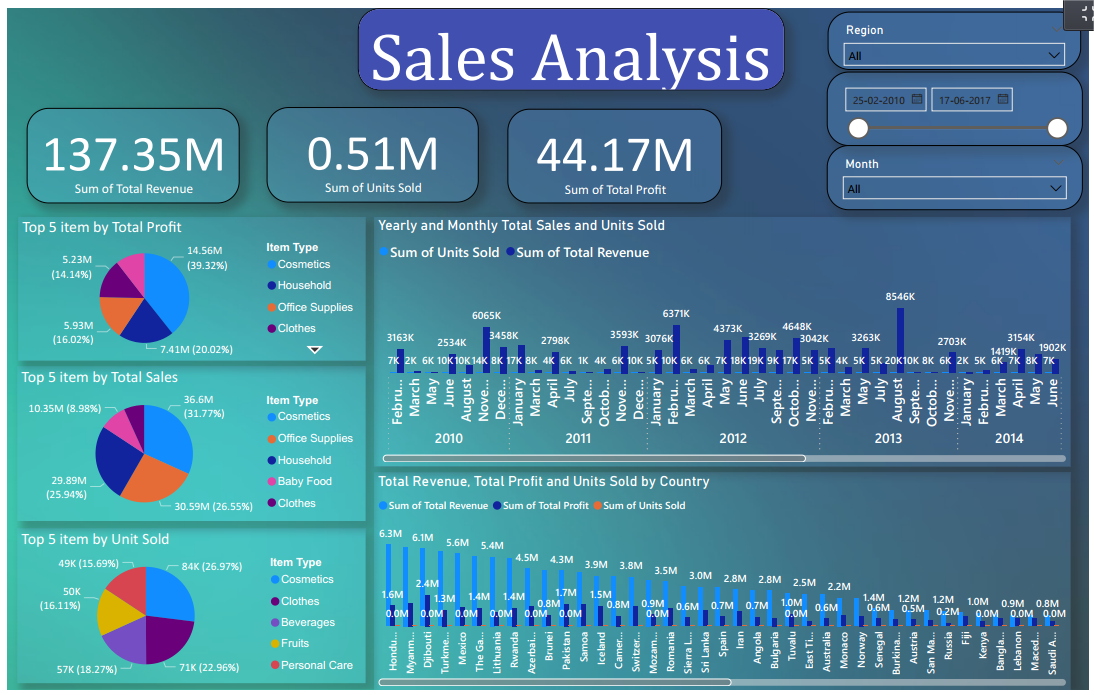

This screenshot's page, from the dashboard's own definition file:
{"tool":"powerbi","page":{"name":"Sales Analysis","canvas":[1280,807],"ordinal":0},"visuals":[{"type":"textbox","title":"Sales Analysis","box":[414.7,0,504.8,97.2],"z":0},{"type":"pieChart","title":"Top 5 item by Total Profit","fields":{"Category":["Amazone_sales_data.Item Type"],"Y":["Sum(Amazone_sales_data.Total Profit)"]},"box":[13,238.6,410.7,177.9],"z":1000},{"type":"pieChart","title":"Top 5 item by Total Sales","fields":{"Category":["Amazone_sales_data.Item Type"],"Y":["Sum(Amazone_sales_data.Total Revenue)"]},"box":[11.6,423.7,412.2,183.7],"z":2000},{"type":"clusteredColumnChart","title":"Yearly and Monthly Total Sales and Units Sold","fields":{"Category":["Amazone_sales_data.Ship Date.Variation.Date Hierarchy.Year","Amazone_sales_data.Ship Date.Variation.Date Hierarchy.Month"],"Y":["Sum(Amazone_sales_data.Units Sold)","Sum(Amazone_sales_data.Total Revenue)"]},"box":[433.9,238.6,824.4,303.7],"z":3000},{"type":"pieChart","title":"Top 5 item by Unit Sold","fields":{"Y":["Sum(Amazone_sales_data.Units Sold)"],"Category":["Amazone_sales_data.Item Type"]},"box":[11.6,616,412.2,182.9],"z":4000},{"type":"clusteredColumnChart","title":" Total Revenue, Total Profit and Units Sold by Country","fields":{"Category":["Amazone_sales_data.Country"],"Y":["Sum(Amazone_sales_data.Total Revenue)","Sum(Amazone_sales_data.Total Profit)","Sum(Amazone_sales_data.Units Sold)"]},"box":[433.9,549.6,824.4,257.4],"z":5000},{"type":"slicer","fields":{"Values":["Amazone_sales_data.Region"]},"box":[971,4.3,300.3,68.6],"z":6000},{"type":"slicer","fields":{"Values":["Amazone_sales_data.Ship Date"]},"box":[970.4,73.8,302.3,88.2],"z":7000},{"type":"slicer","fields":{"Values":["Amazone_sales_data.Ship Date.Variation.Date Hierarchy.Month"]},"box":[970.4,160.5,302.3,76.7],"z":8000},{"type":"card","fields":{"Values":["Sum(Amazone_sales_data.Total Revenue)"]},"box":[23.1,115.7,251.6,112.8],"z":9000},{"type":"card","fields":{"Values":["Sum(Amazone_sales_data.Units Sold)"]},"box":[306.6,115.1,251.6,112.8],"z":10000},{"type":"card","fields":{"Values":["Sum(Amazone_sales_data.Total Profit)"]},"box":[591.5,116.5,254.5,112.8],"z":11000}]}

Visuals, with their boxes in screenshot pixels (x1, y1, x2, y2), scaled from the page's 1280x807 canvas onto the 1094x695 screenshot:
"Sales Analysis" textbox: (x1=354, y1=0, x2=786, y2=84)
"Top 5 item by Total Profit" pieChart: (x1=11, y1=205, x2=362, y2=359)
"Top 5 item by Total Sales" pieChart: (x1=10, y1=365, x2=362, y2=523)
"Yearly and Monthly Total Sales and Units Sold" clusteredColumnChart: (x1=371, y1=205, x2=1075, y2=467)
"Top 5 item by Unit Sold" pieChart: (x1=10, y1=531, x2=362, y2=688)
" Total Revenue, Total Profit and Units Sold by Country" clusteredColumnChart: (x1=371, y1=473, x2=1075, y2=694)
slicer - Amazone_sales_data.Region: (x1=830, y1=4, x2=1087, y2=63)
slicer - Amazone_sales_data.Ship Date: (x1=829, y1=64, x2=1088, y2=140)
slicer - Amazone_sales_data.Ship Date.Variation.Date Hierarchy.Month: (x1=829, y1=138, x2=1088, y2=204)
card - Sum(Amazone_sales_data.Total Revenue): (x1=20, y1=100, x2=235, y2=197)
card - Sum(Amazone_sales_data.Units Sold): (x1=262, y1=99, x2=477, y2=196)
card - Sum(Amazone_sales_data.Total Profit): (x1=506, y1=100, x2=723, y2=197)
